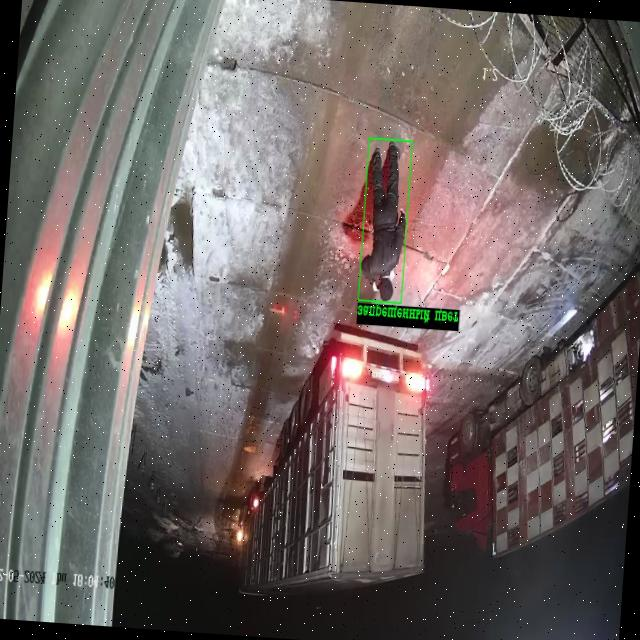Person: (361, 141, 405, 300)
